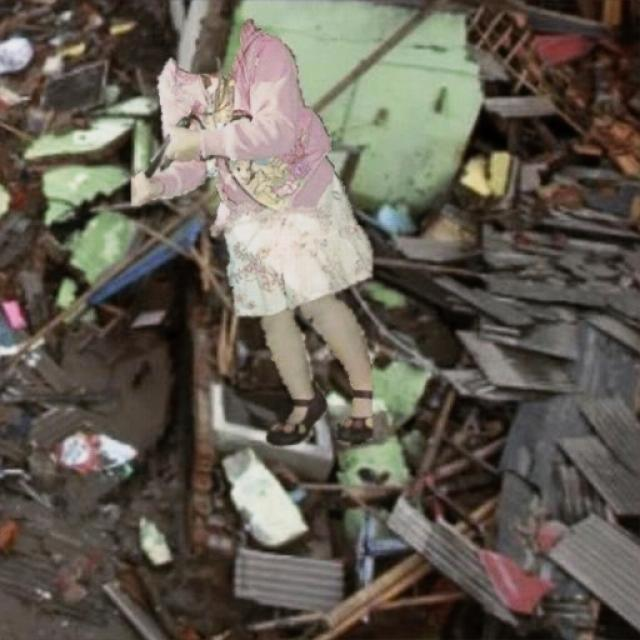Person in Rubble: (131, 19, 371, 448)
